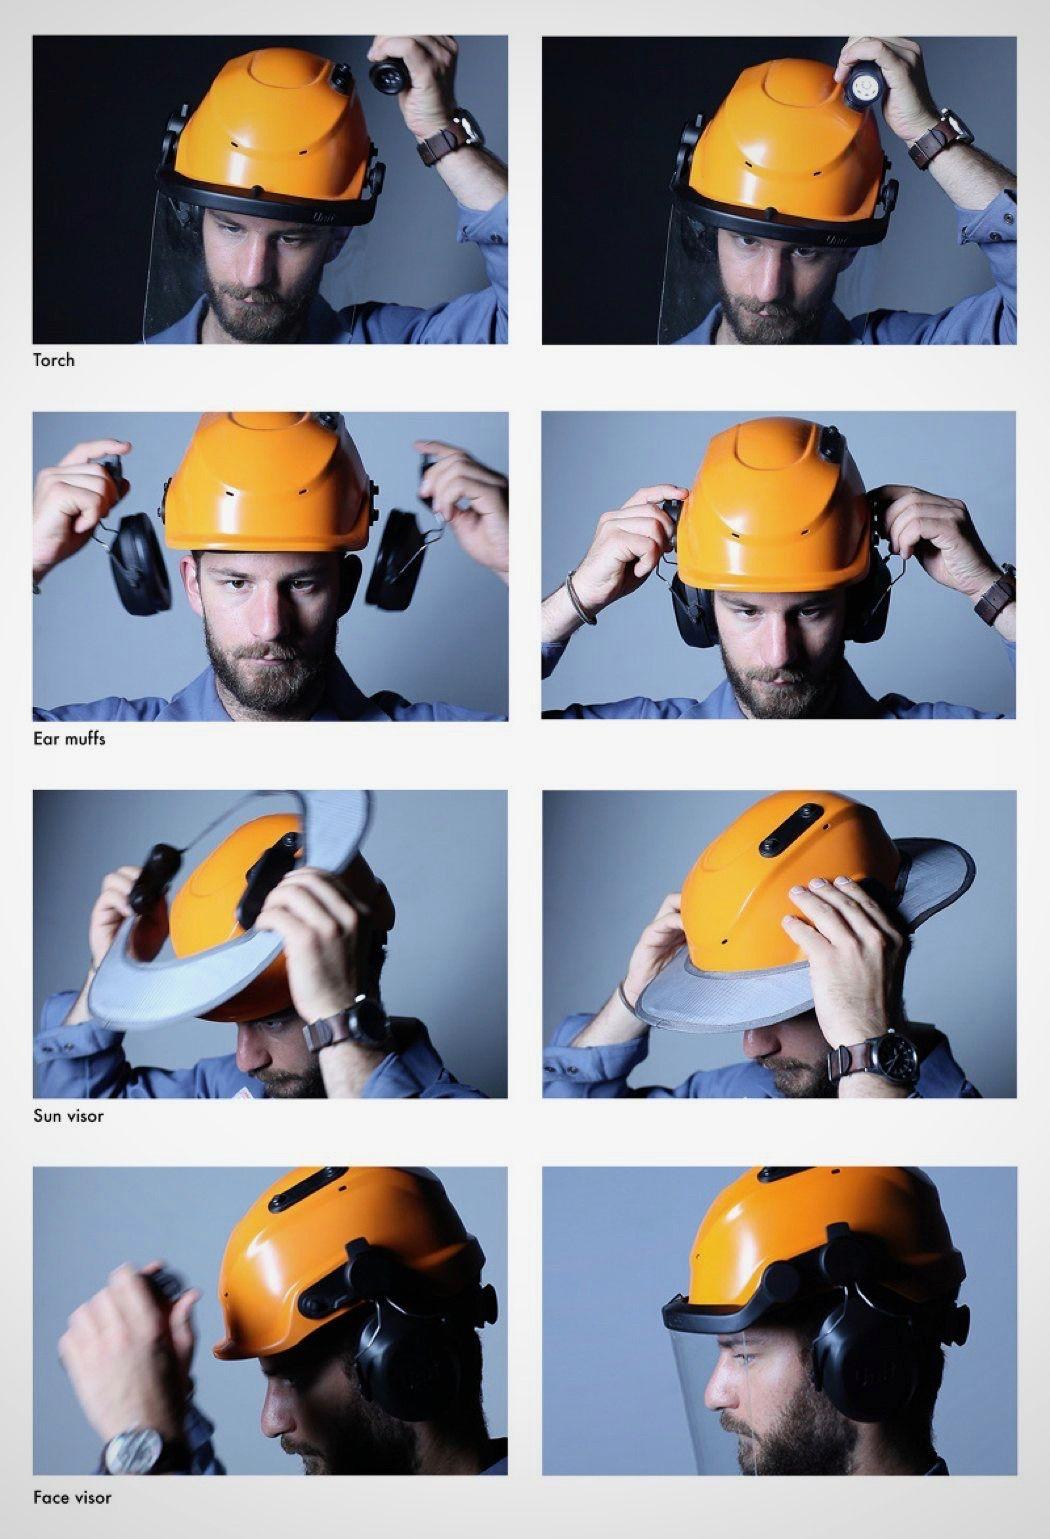helmet: (219, 1162, 504, 1466), (666, 1164, 974, 1358), (652, 777, 899, 999), (139, 46, 400, 244), (662, 416, 886, 619), (159, 812, 337, 995), (688, 60, 875, 223), (158, 410, 353, 551)
